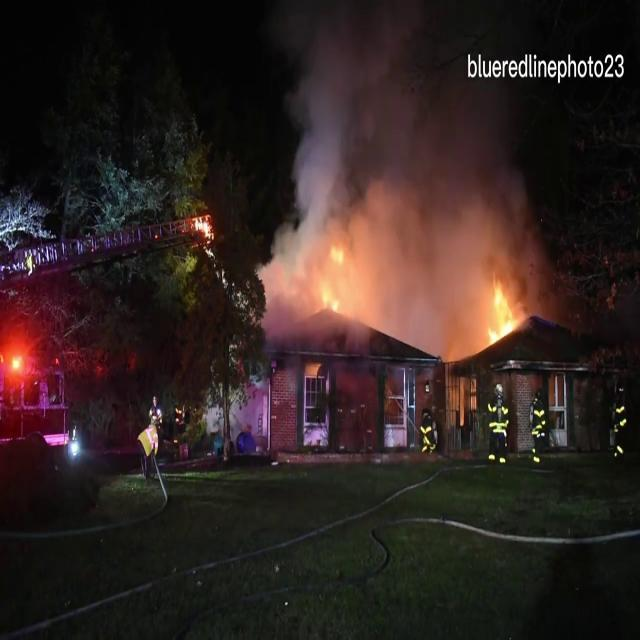Fire: (270, 243, 373, 329), (477, 272, 527, 349)
Smoke: (264, 1, 552, 306)
